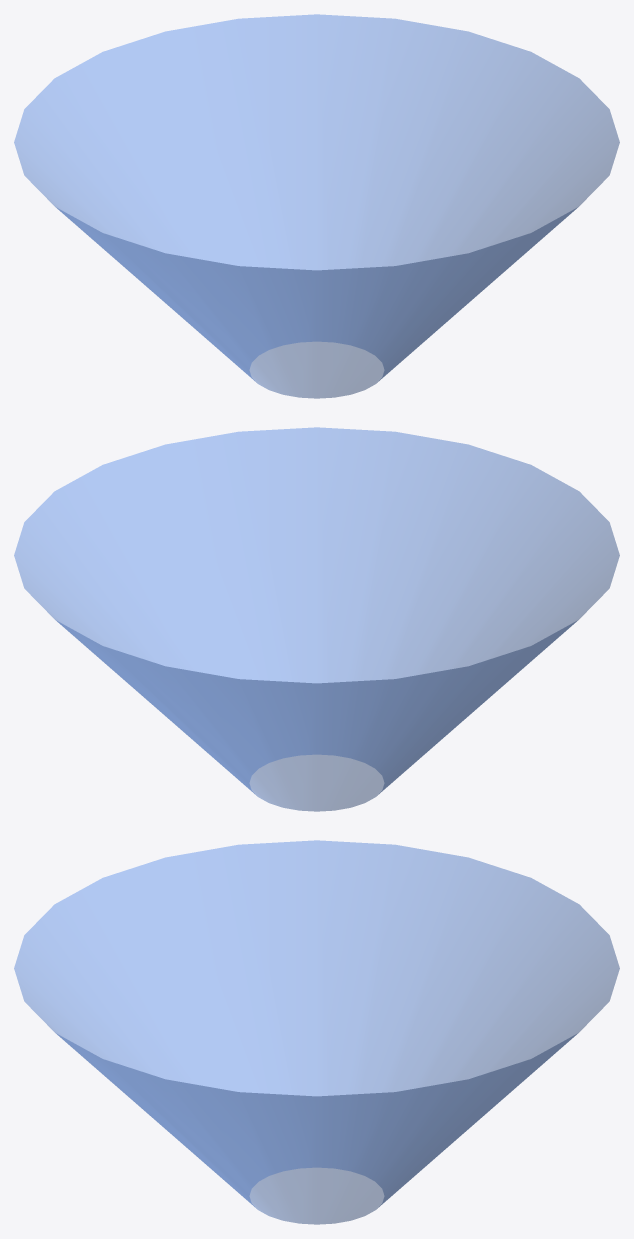
Rendered from funnel-DESKTOP-9J6CAR8.fbx.
3 renders of one model, top to bottom at view 1: azimuth 30°, elevation 25°; view 2: azimuth 150°, elevation 25°; view 3: azimuth 270°, elevation 25°, orthographic.
Visible parts, largest first — view 1: Component1; view 2: Component1; view 3: Component1.
Part boxes in pixels (left/top/right/bottom): Component1: left=14, top=14, right=619, bottom=398; Component1: left=14, top=427, right=619, bottom=811; Component1: left=14, top=840, right=619, bottom=1224.
Size of the model in its own units: 68.18 by 28.27 by 68.18.
